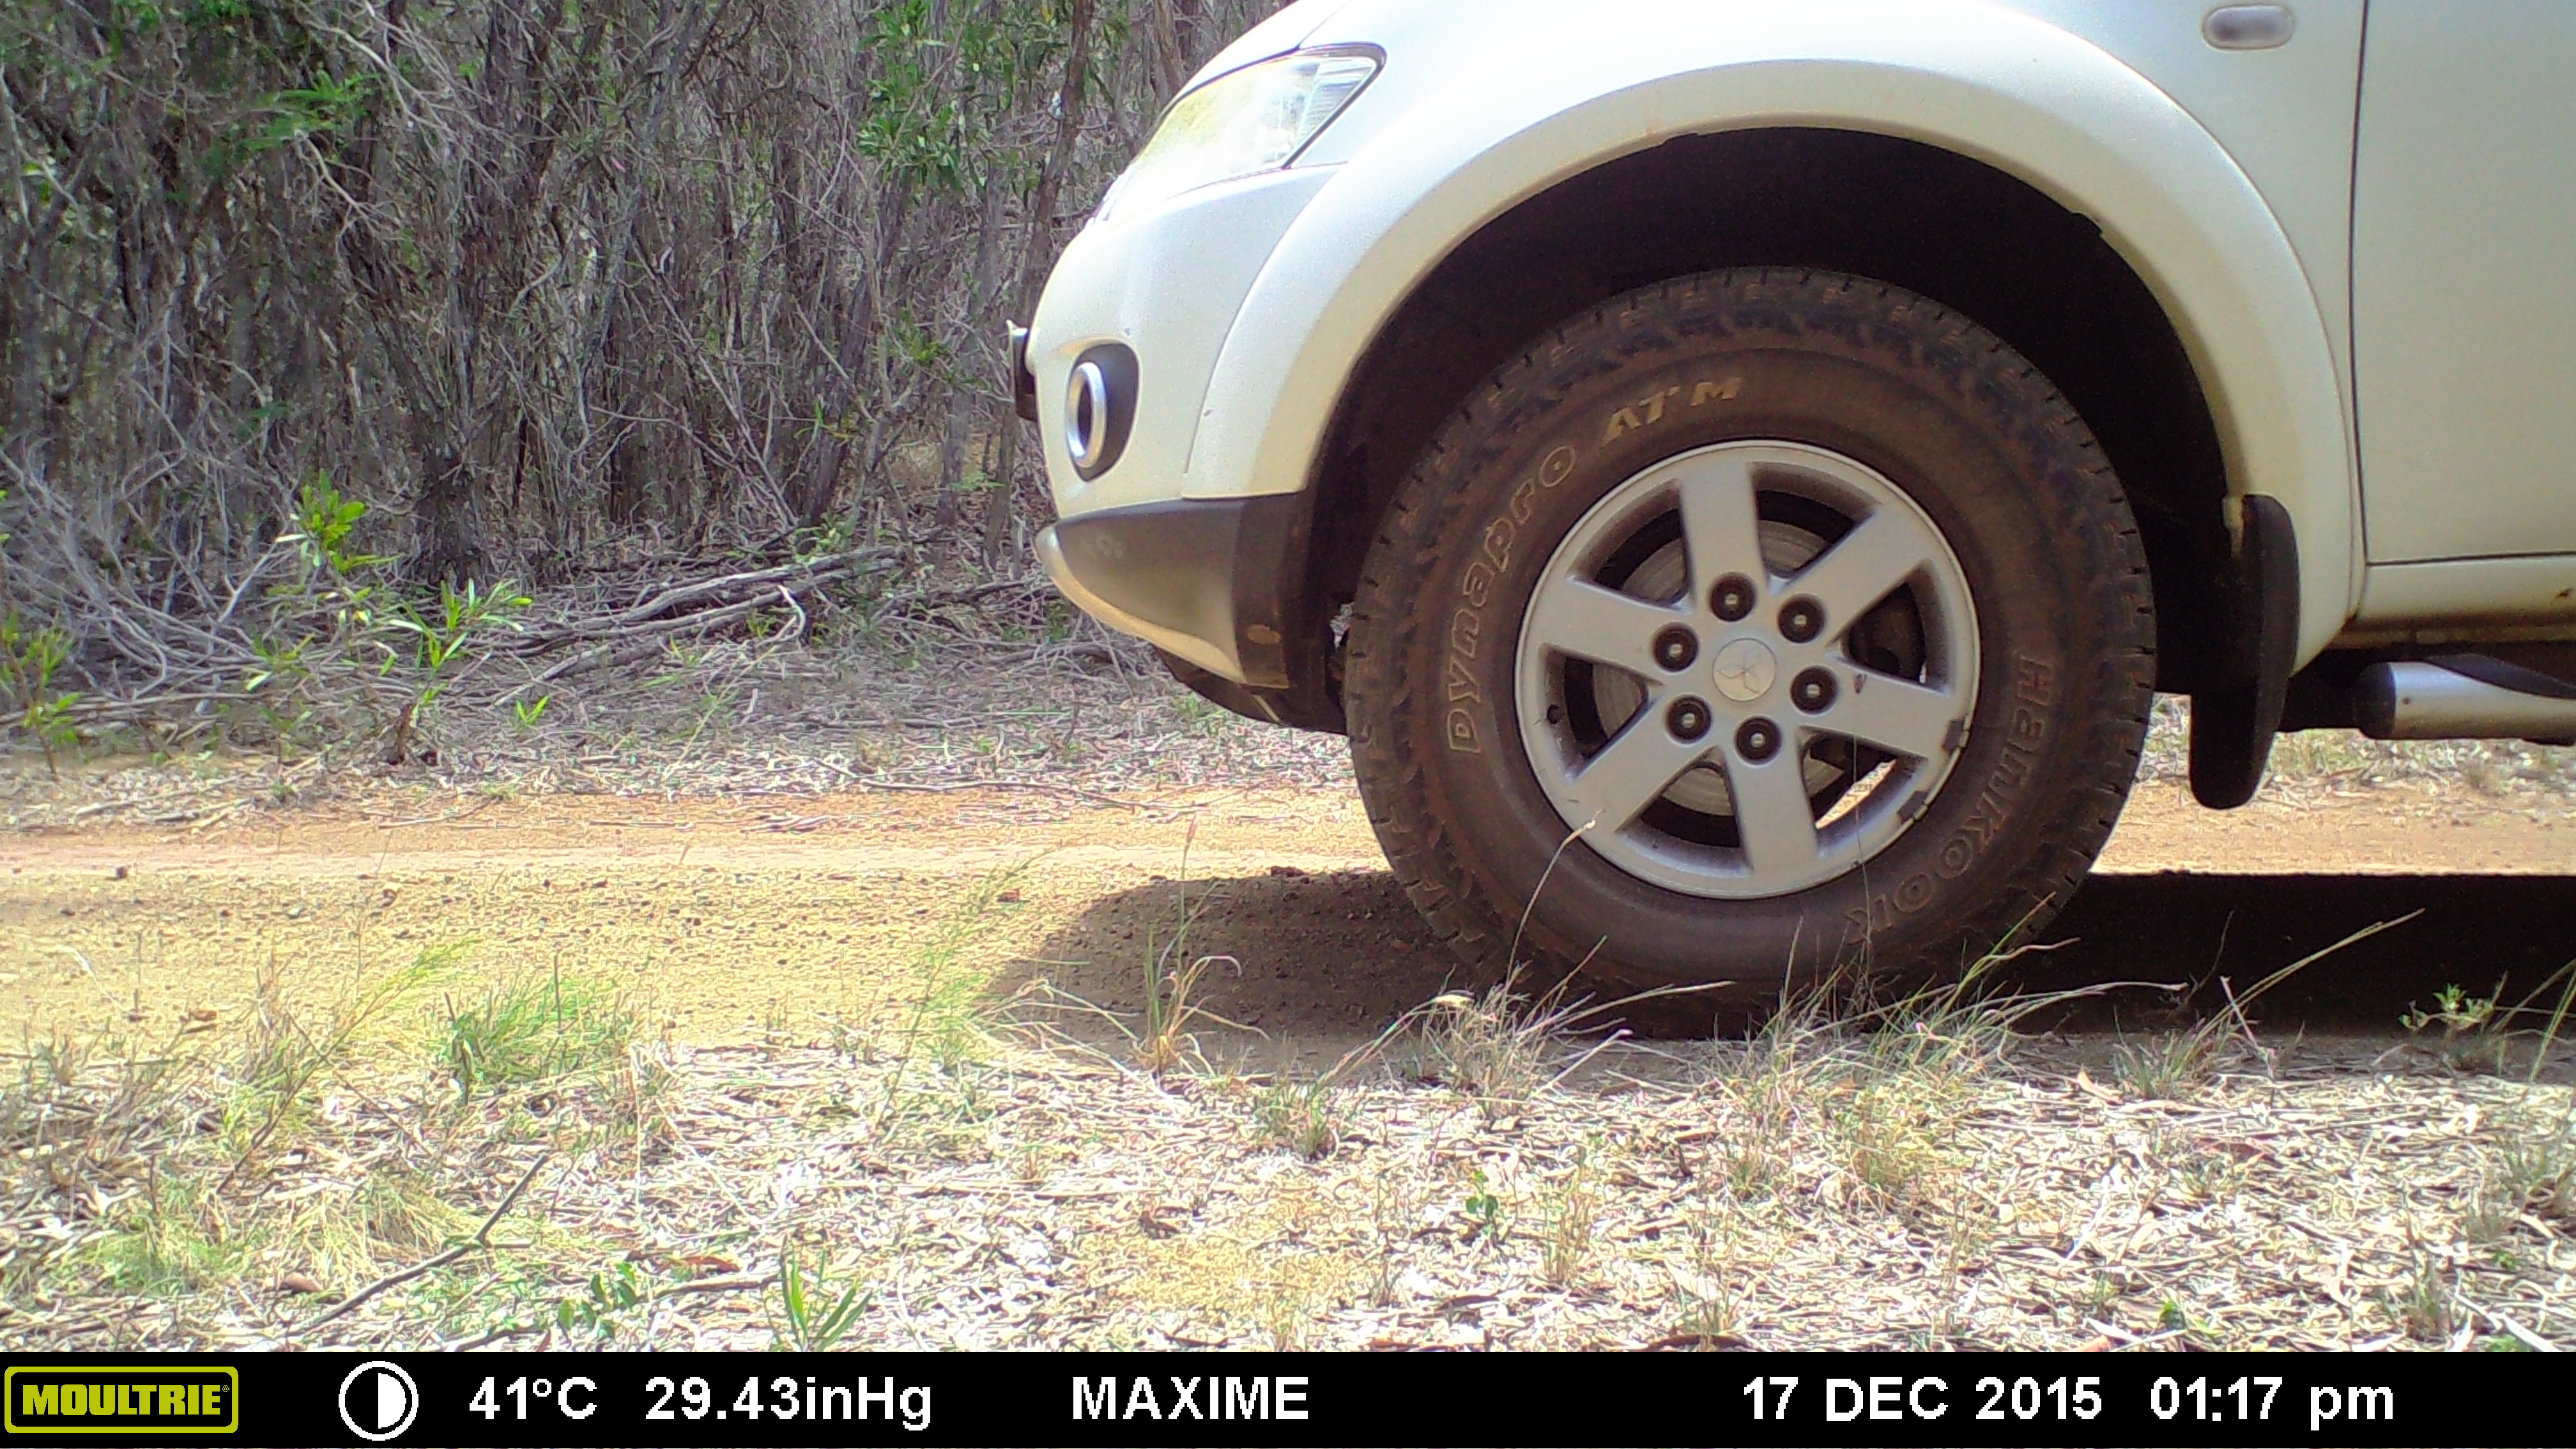Car: (1005, 2, 2574, 1063)
